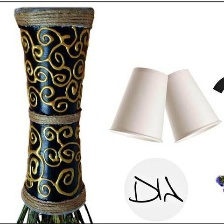glass: (103, 60, 171, 145), (158, 62, 223, 148)
